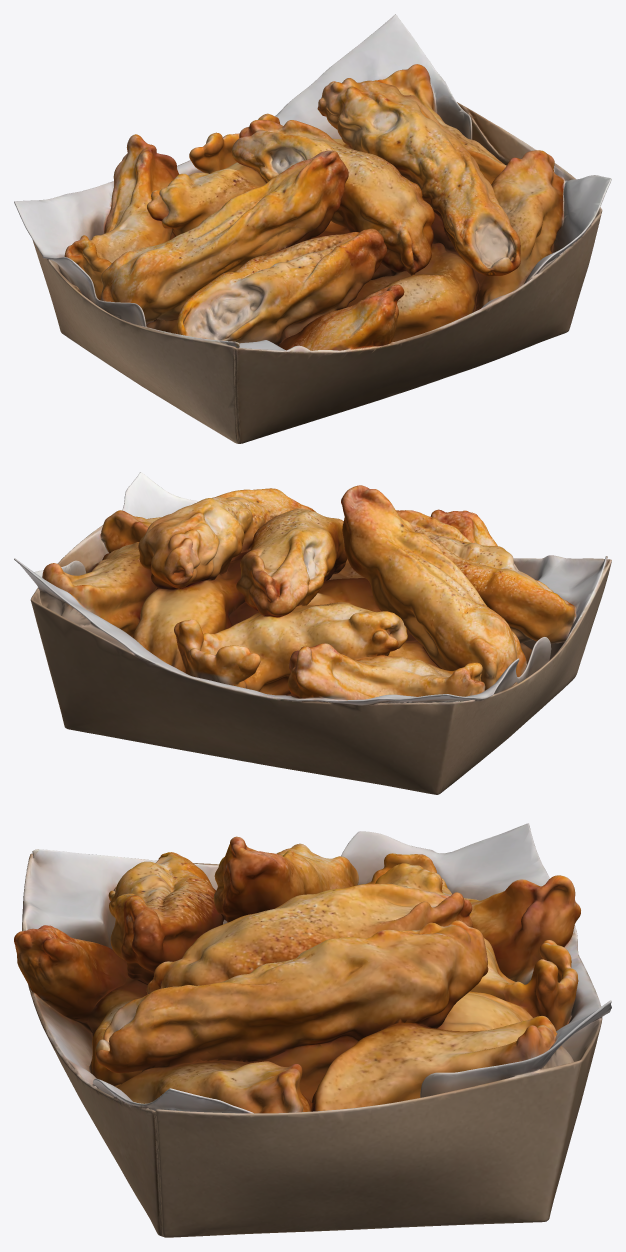
The model's file is chicken-wings.glb.
3 views of the same model, one above another, from view 1: azimuth 30°, elevation 25°; view 2: azimuth 150°, elevation 25°; view 3: azimuth 270°, elevation 25° (orthographic). The views are drawn at different scales.
Visible parts, largest first — view 1: tripo_node_1f025736-3aa3-4d93-9a7f-0d9b394af898; view 2: tripo_node_1f025736-3aa3-4d93-9a7f-0d9b394af898; view 3: tripo_node_1f025736-3aa3-4d93-9a7f-0d9b394af898.
Part boxes in pixels (x1=…): tripo_node_1f025736-3aa3-4d93-9a7f-0d9b394af898: x1=14, y1=14, x2=611, y2=443; tripo_node_1f025736-3aa3-4d93-9a7f-0d9b394af898: x1=14, y1=472, x2=611, y2=794; tripo_node_1f025736-3aa3-4d93-9a7f-0d9b394af898: x1=14, y1=823, x2=611, y2=1237.
Bounding box in the file's own units: 0.9786 × 0.4147 × 0.8525.
1 material, 1 textured.
